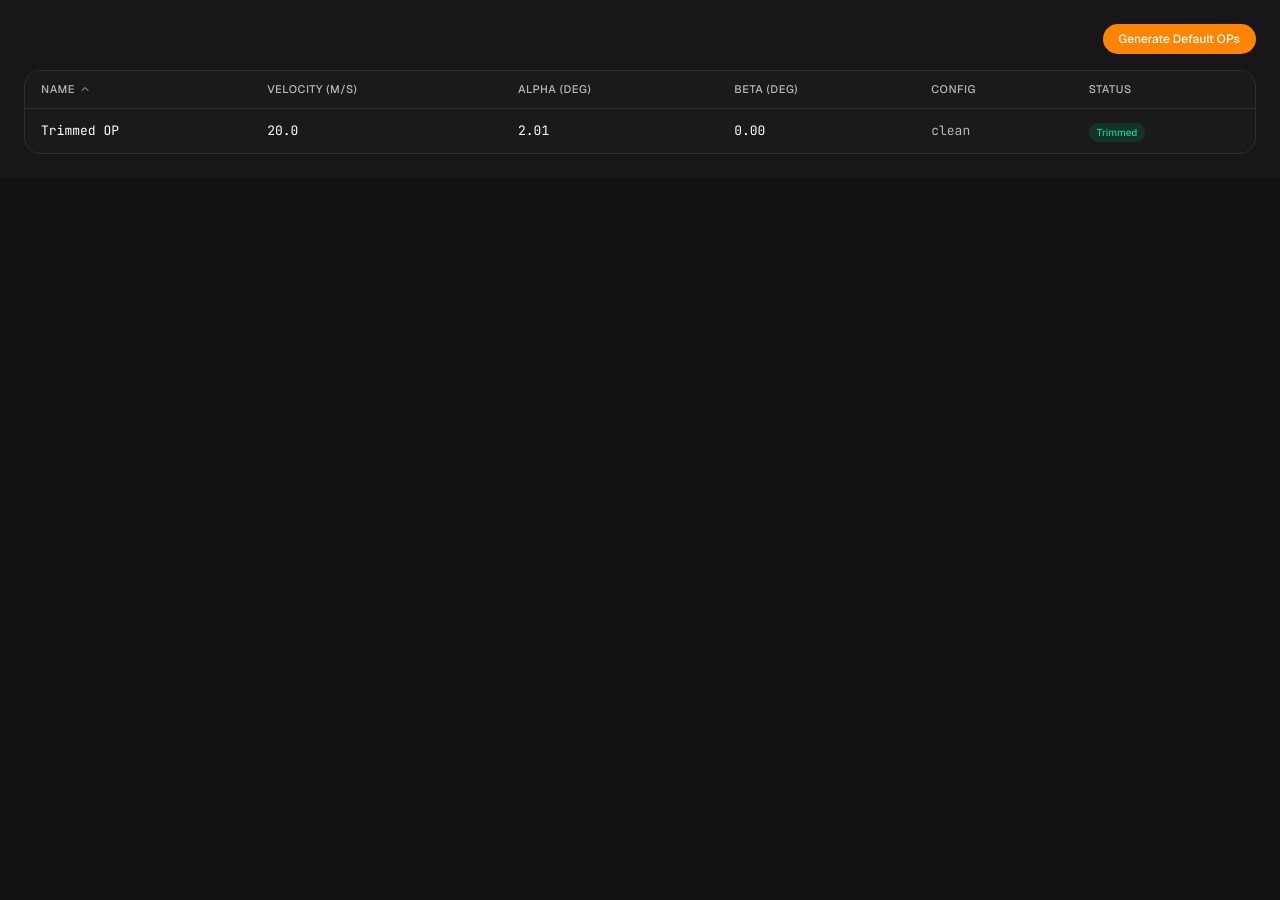
Test: OperatingPointsPanel › drawer shows controls section when controls exist
Click the text "Trimmed OP": (80, 130) [25,108,251,152]
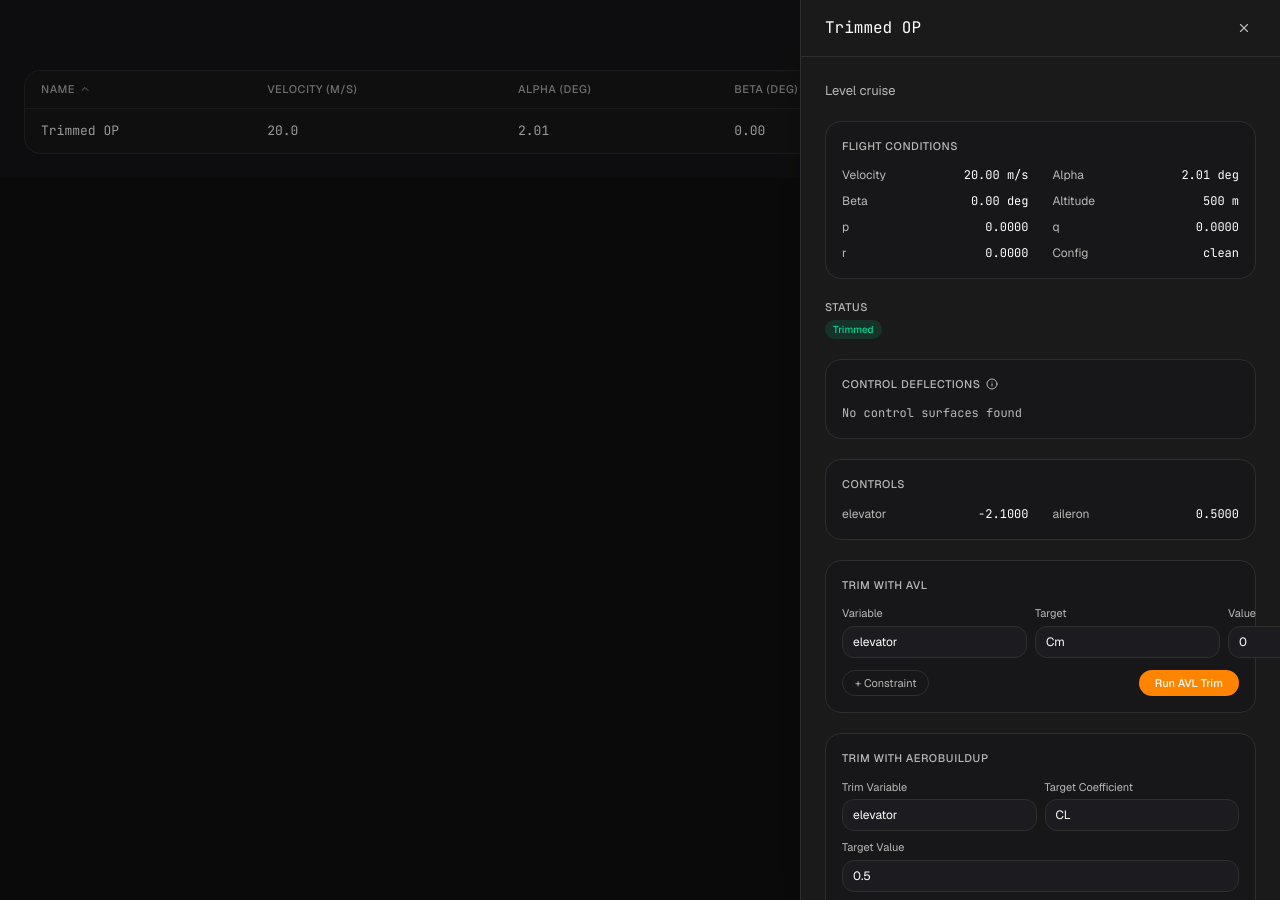
Result: the text "Controls" is shown at [842,477,905,491]
Result: the text "elevator" is shown at [842,504,886,522]
Result: the text "aileron" is shown at [1052,504,1089,522]
